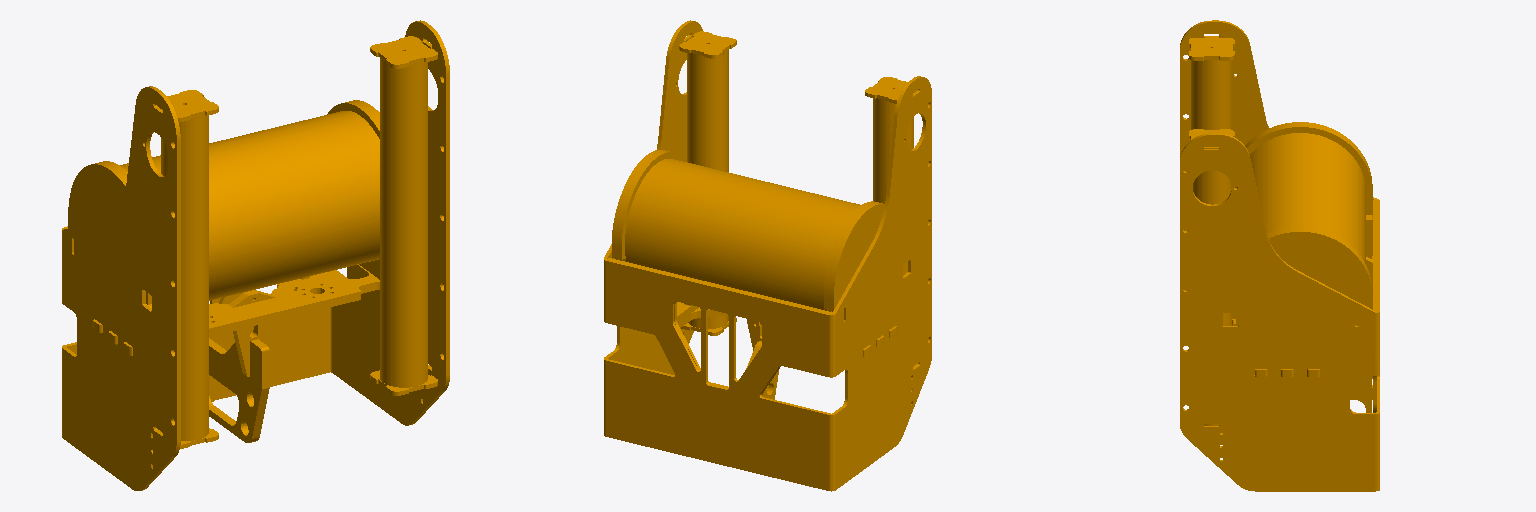
URDF robot description (teste):
<?xml version="1.0"?>
<robot name="teste">
    <link name="base_link">
        <visual>     
            <geometry>
                <mesh filename="package://openrov_description/meshes/vehicle.dae"/>
            </geometry>
        </visual>
    </link>
</robot>

--- Facts derived from the render (not from the file) ---
Views: 3 orthographic renders of the robot side by side, from view 1: azimuth 30°, elevation 25°; view 2: azimuth 150°, elevation 25°; view 3: azimuth 270°, elevation 25°.
Robot: teste — 1 links, 0 joints (none); root link base_link; default pose: every joint at zero.
Visible links, largest first — view 1: base_link; view 2: base_link; view 3: base_link.
Boxes of the visible links, x1,y1,x2,y2 form: base_link: [62, 20, 449, 490]; base_link: [604, 20, 931, 491]; base_link: [1180, 20, 1379, 491].
Bounding box of the posed robot: 210 × 153 × 300 m (x, y, z).
1 mesh visuals loaded from 1 distinct referenced files (1 Collada DAE).